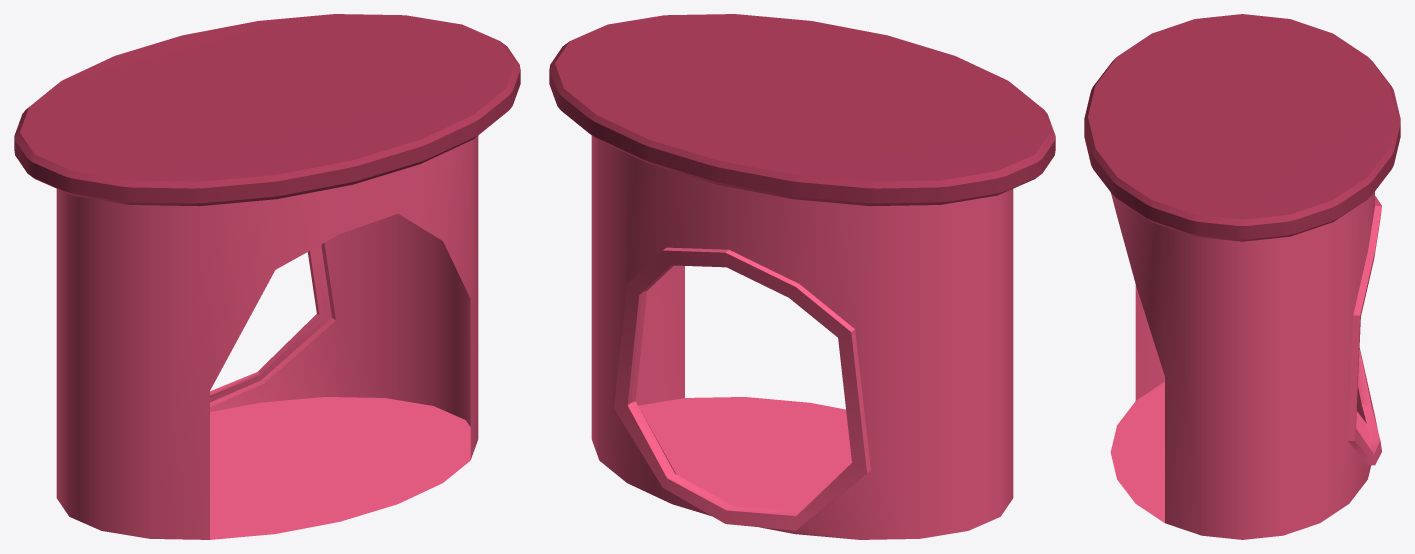
Rendered from SM_house_3.fbx.
The picture shows the model from 3 angles, left to right: view 1: azimuth 30°, elevation 25°; view 2: azimuth 150°, elevation 25°; view 3: azimuth 270°, elevation 25°; orthographic projection. The views are drawn at different scales.
Visible parts, largest first — view 1: SM_house_3; view 2: SM_house_3; view 3: SM_house_3.
Boxes of the visible parts, <box> form: SM_house_3: <box>14,14,520,539</box>; SM_house_3: <box>549,14,1055,539</box>; SM_house_3: <box>1084,14,1400,539</box>.
Bounding box in the file's own units: 609 × 956 × 713.
